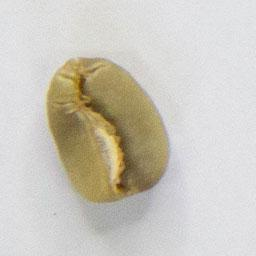longberry: (41, 52, 176, 206)
